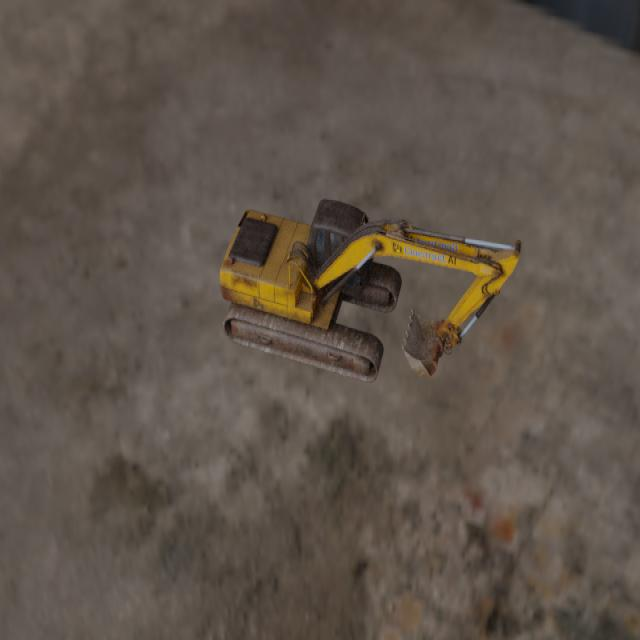excavator: (218, 197, 522, 383)
